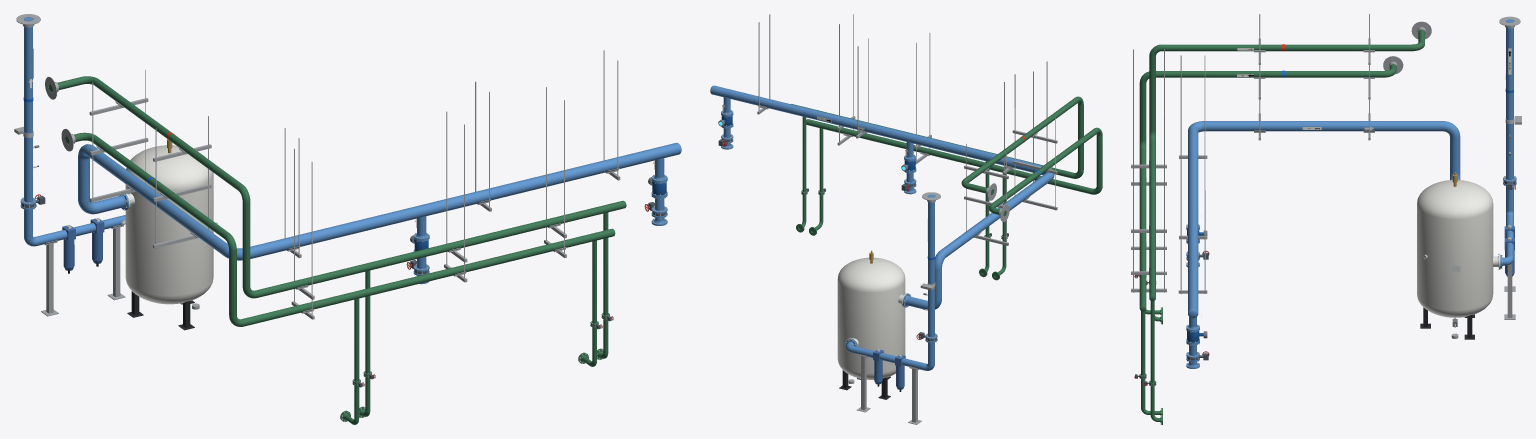
The model's file is cda-loop.glb.
3 views of the same model, side by side, from view 1: azimuth 30°, elevation 25°; view 2: azimuth 150°, elevation 25°; view 3: azimuth 270°, elevation 25° (orthographic). The views are drawn at different scales.
Parts seen in each view (by area): view 1: RCV_1401_Receiver, CDAL_Header, CDAL_Supports, CDAL_CWReturn, CDAL_CWSupply, CDAL_FilterLine, CDAL_CDA01_CW, CDAL_CDA02_CW; view 2: RCV_1401_Receiver, CDAL_Header, CDAL_Supports, CDAL_CWSupply, CDAL_CWReturn, CDAL_FilterLine, CDAL_CDA02_CW, CDAL_CDA01_CW; view 3: RCV_1401_Receiver, CDAL_Header, CDAL_CWReturn, CDAL_CWSupply, CDAL_Supports, CDAL_FilterLine, CDAL_CDA02_CW.
Part boxes in pixels (left/top/right/bottom): RCV_1401_Receiver: left=125, top=145, right=213, bottom=330; CDAL_Header: left=78, top=143, right=681, bottom=260; CDAL_Supports: left=14, top=50, right=620, bottom=319; CDAL_CWReturn: left=45, top=76, right=626, bottom=298; CDAL_CWSupply: left=61, top=128, right=615, bottom=326; CDAL_FilterLine: left=16, top=14, right=125, bottom=246; CDAL_CDA01_CW: left=340, top=270, right=370, bottom=424; CDAL_CDA02_CW: left=578, top=212, right=608, bottom=366; RCV_1401_Receiver: left=837, top=257, right=906, bottom=399; CDAL_Header: left=710, top=85, right=1054, bottom=309; CDAL_Supports: left=757, top=14, right=1057, bottom=424; CDAL_CWSupply: left=806, top=119, right=1102, bottom=221; CDAL_CWReturn: left=791, top=96, right=1083, bottom=200; CDAL_FilterLine: left=845, top=192, right=940, bottom=370; CDAL_CDA02_CW: left=796, top=116, right=823, bottom=235; CDAL_CDA01_CW: left=979, top=161, right=1006, bottom=280; RCV_1401_Receiver: left=1417, top=180, right=1500, bottom=339; CDAL_Header: left=1188, top=121, right=1460, bottom=318; CDAL_CWReturn: left=1149, top=21, right=1431, bottom=301; CDAL_CWSupply: left=1139, top=56, right=1403, bottom=311; CDAL_Supports: left=1131, top=14, right=1521, bottom=319; CDAL_FilterLine: left=1499, top=16, right=1520, bottom=268; CDAL_CDA02_CW: left=1141, top=301, right=1162, bottom=424.
Bounding box in the file's own units: 10.45 × 6 × 8.2.
